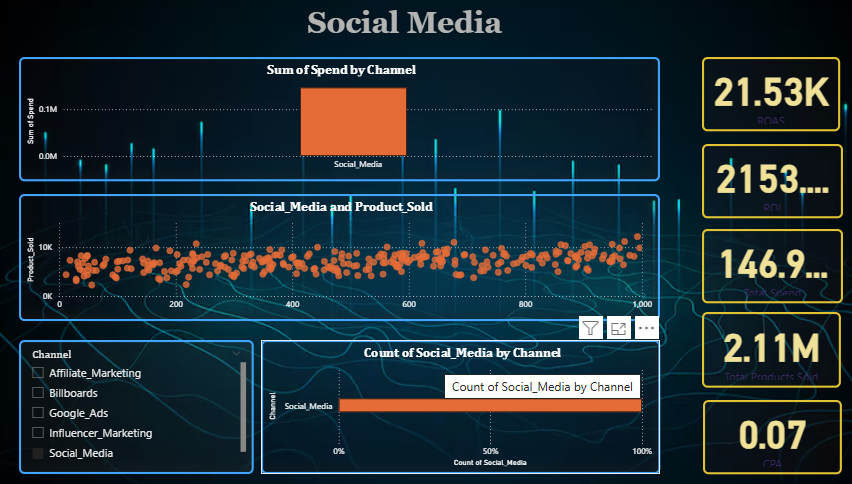

This screenshot's page, from the dashboard's own definition file:
{"tool":"powerbi","page":{"name":"Social Media","canvas":[1280,720],"ordinal":0},"visuals":[{"type":"card","fields":{"Values":["my_measures.Total Products Sold"]},"box":[1033.9,465.1,200.2,109.4],"z":0},{"type":"card","fields":{"Values":["my_measures.Total Spend"]},"box":[1033.9,345.6,203,106.6],"z":1000},{"type":"card","fields":{"Values":["my_measures.CPA"]},"box":[1035.4,591.8,200.2,106.6],"z":2000},{"type":"card","fields":{"Values":["my_measures.ROI"]},"box":[1033.9,223.2,203,106.6],"z":3000},{"type":"card","fields":{"Values":["my_measures.ROAS"]},"box":[1033.9,97.9,198.7,106.6],"z":4000},{"type":"clusteredColumnChart","fields":{"Y":["Sum(Ads Spend.Spend)"],"Category":["Ads Spend.Channel"]},"box":[50.4,97.9,923,178.6],"z":5000},{"type":"scatterChart","fields":{"X":["Ads Base.Social_Media"],"Y":["Ads Base.Product_Sold"]},"box":[50.4,295.2,923,182.9],"z":6000},{"type":"slicer","fields":{"Values":["Ads Spend.Channel"]},"box":[50.4,505.4,338.4,193],"z":7001},{"type":"hundredPercentStackedBarChart","fields":{"Y":["CountNonNull(Ads Base.Social_Media)"],"Category":["Ads Spend.Channel"]},"box":[398.9,505.4,574.6,193],"z":7002},{"type":"textbox","box":[378.7,18.7,453.6,63.4],"z":7003}]}

Visuals, with their boxes in screenshot pixels (x1, y1, x2, y2), scaled from the page's 1280x720 canvas onto the 852x484 screenshot:
card - my_measures.Total Products Sold: <box>688,313,821,386</box>
card - my_measures.Total Spend: <box>688,232,823,304</box>
card - my_measures.CPA: <box>689,398,822,469</box>
card - my_measures.ROI: <box>688,150,823,222</box>
card - my_measures.ROAS: <box>688,66,820,137</box>
clusteredColumnChart - Sum(Ads Spend.Spend) x Ads Spend.Channel: <box>34,66,648,186</box>
scatterChart - Ads Base.Social_Media x Ads Base.Product_Sold: <box>34,198,648,321</box>
slicer - Ads Spend.Channel: <box>34,340,259,469</box>
hundredPercentStackedBarChart - CountNonNull(Ads Base.Social_Media) x Ads Spend.Channel: <box>266,340,648,469</box>
textbox: <box>252,13,554,55</box>
